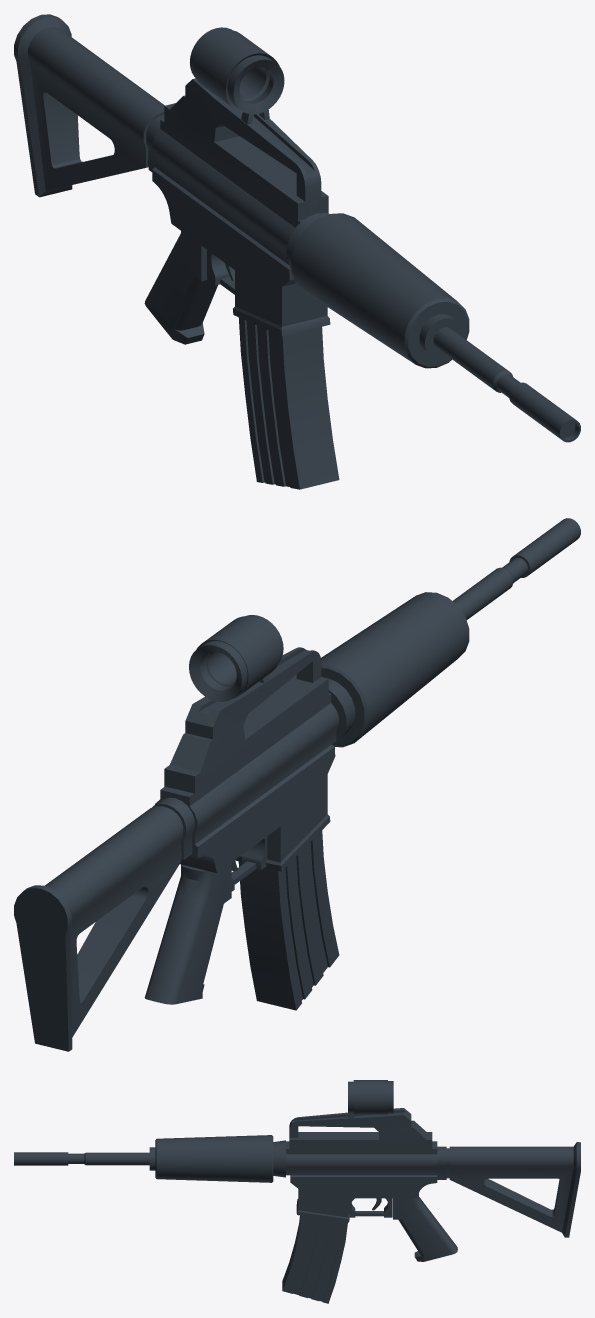
Rendered from silah.fbx.
3 renders of one model, top to bottom at view 1: azimuth 30°, elevation 25°; view 2: azimuth 150°, elevation 25°; view 3: azimuth 270°, elevation 25°, orthographic. The views are drawn at different scales.
Parts seen in each view (by area): view 1: GUN, MAG; view 2: GUN, MAG; view 3: GUN, MAG.
Part boxes in pixels (left/top/right/bottom): GUN: left=14, top=14, right=580, bottom=442; MAG: left=238, top=317, right=339, bottom=489; GUN: left=14, top=518, right=580, bottom=1051; MAG: left=238, top=830, right=339, bottom=1010; GUN: left=14, top=1080, right=580, bottom=1261; MAG: left=282, top=1215, right=347, bottom=1303.
Bounding box in the file's own units: 36.31 × 184 × 435.
